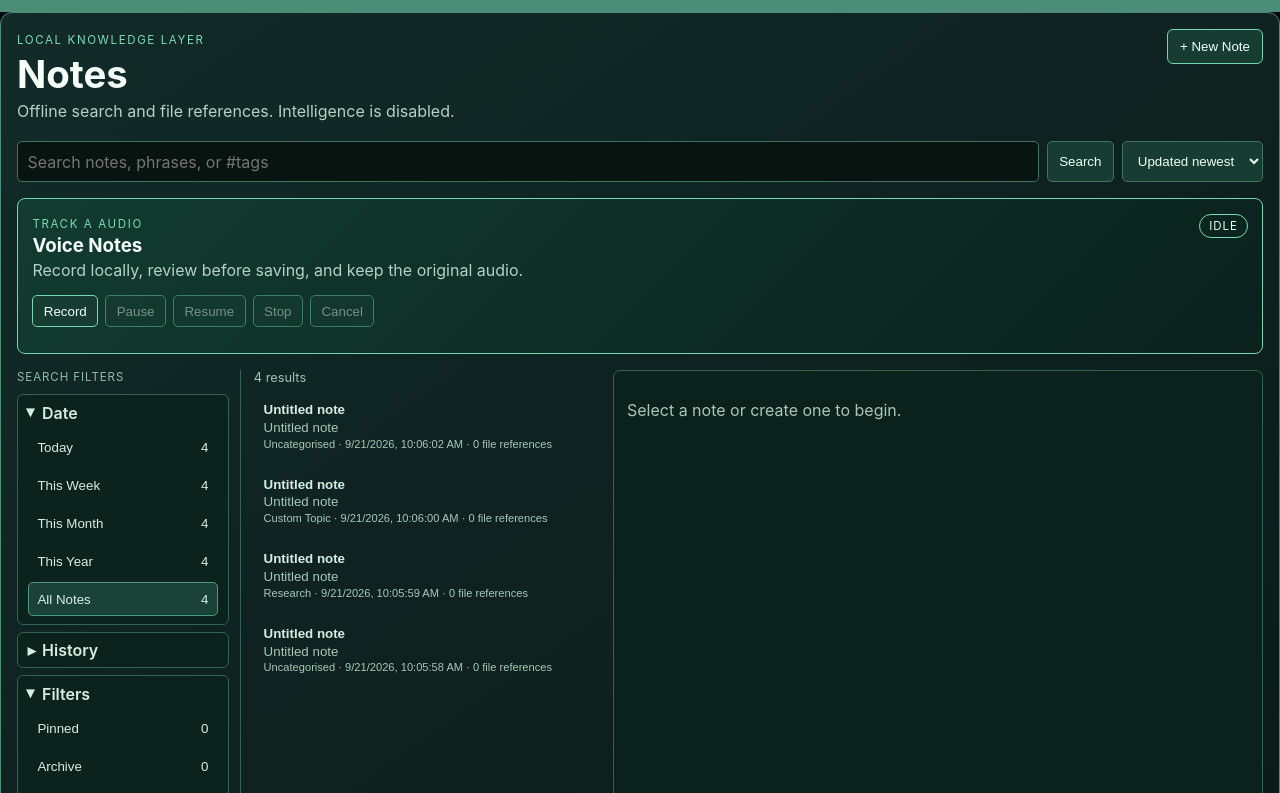
Test: NotesPanel merge-readiness polish › adds an existing default tag as a chip and supports free-form custom tags
The image size is (1280, 793).
Click the button "+ New Note". click: coordinates (1215, 46)
box: [1167, 29, 1263, 64]
(page scrolled)
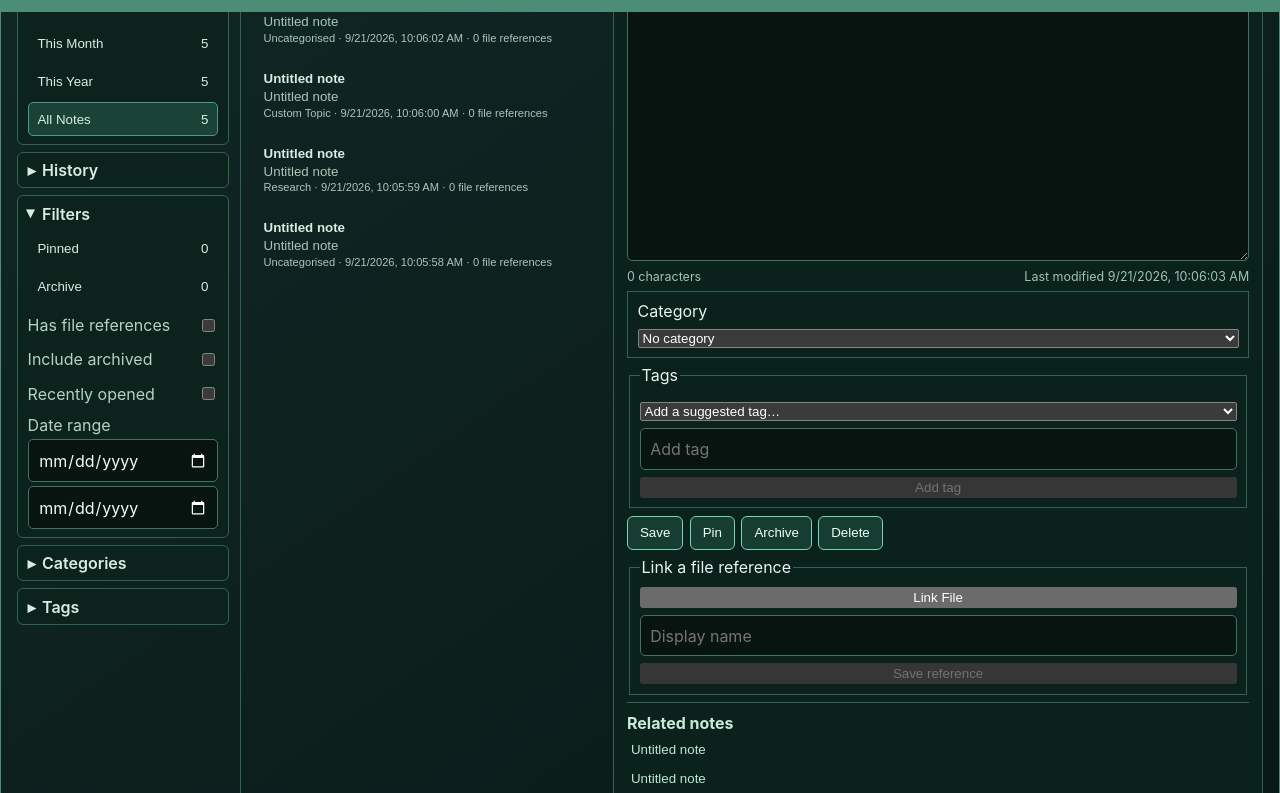
Select "#important" in the dropdown named "Add suggested tag". click: coordinates (938, 412)
box: [640, 402, 1237, 421]
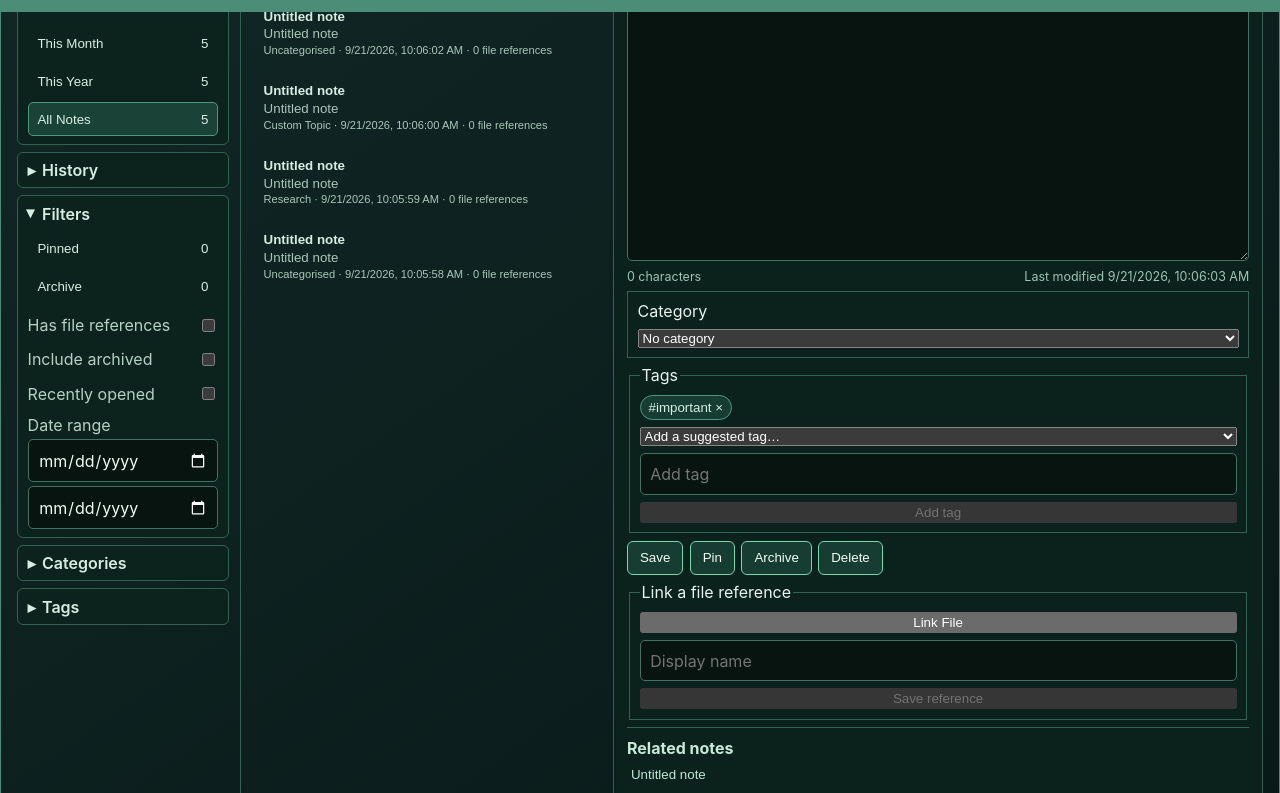
expect the button with aria-label "Remove tag important" is shown: met, box [640, 395, 732, 420]
Type "custom-topic" into the field labelled "Add tag". click: coordinates (938, 474)
box: [640, 453, 1237, 495]
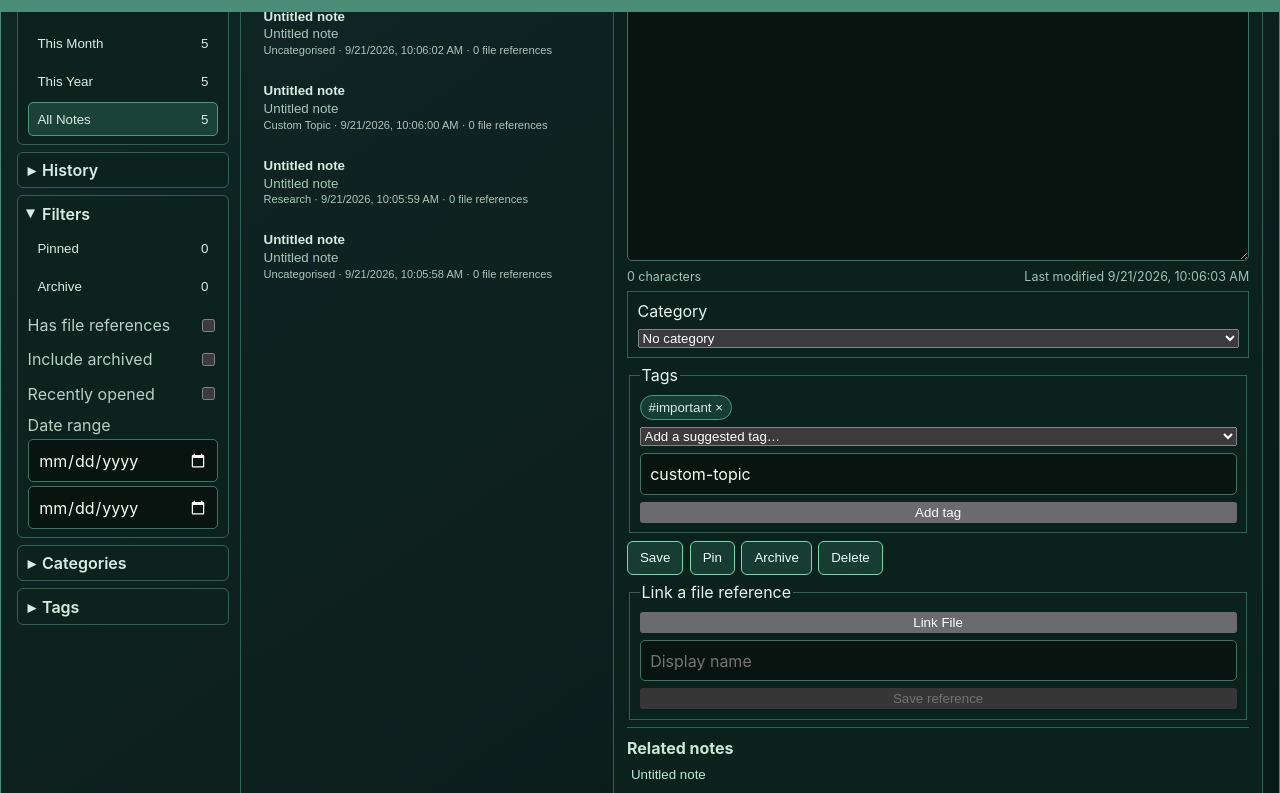
Click the button "Add tag". click: coordinates (938, 512)
box: [640, 502, 1237, 523]
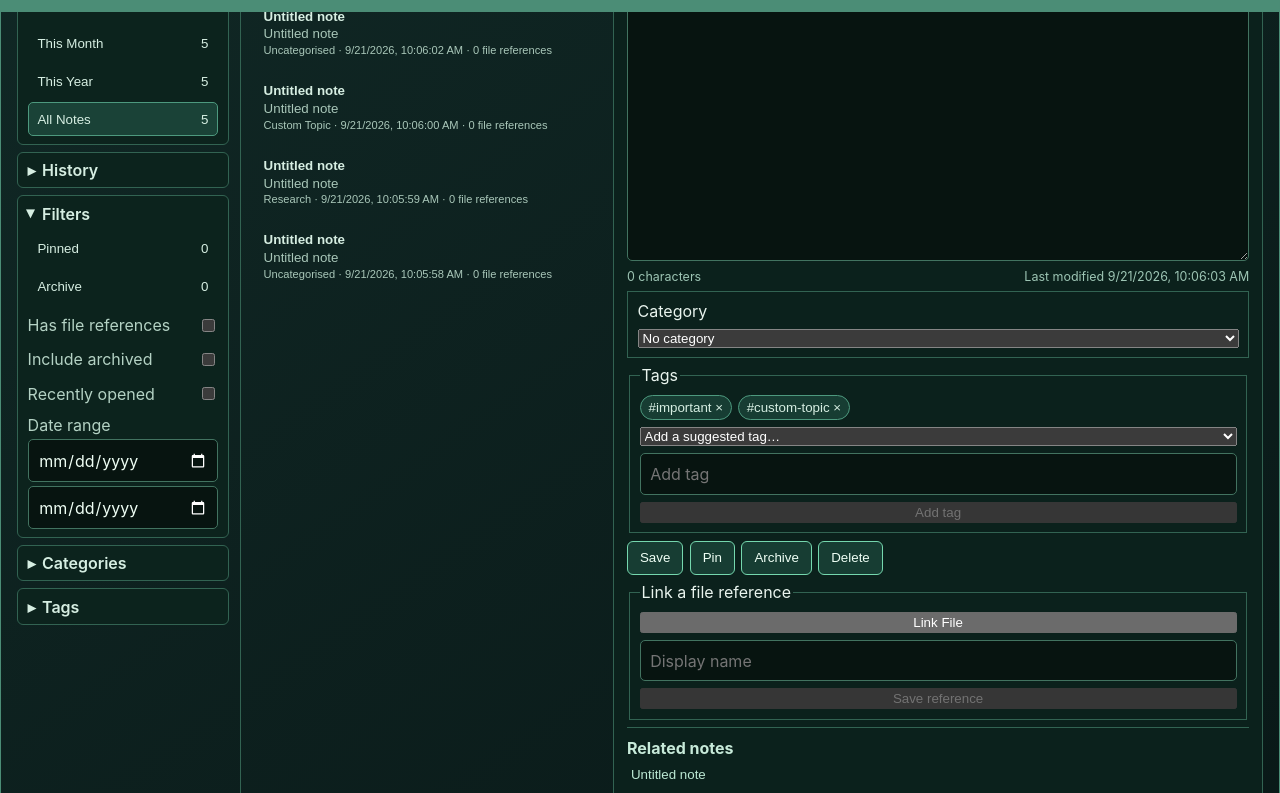
expect the button with aria-label "Remove tag custom-topic" is shown: met, box [738, 395, 850, 420]
